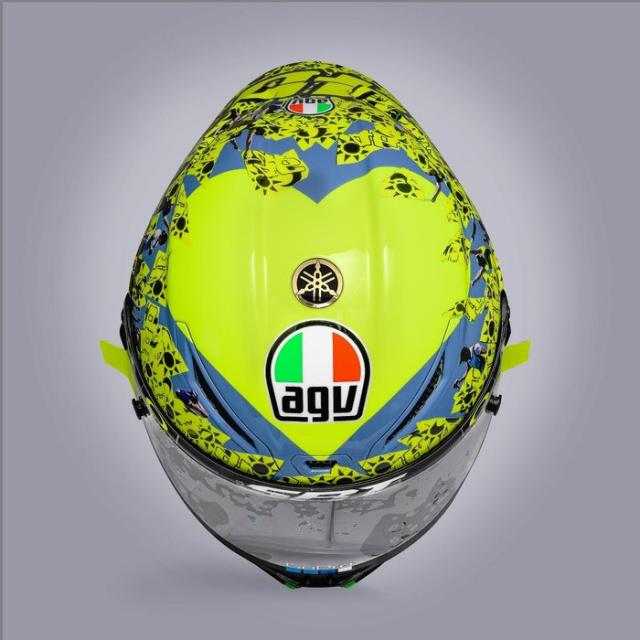Helm: (97, 58, 533, 595)
